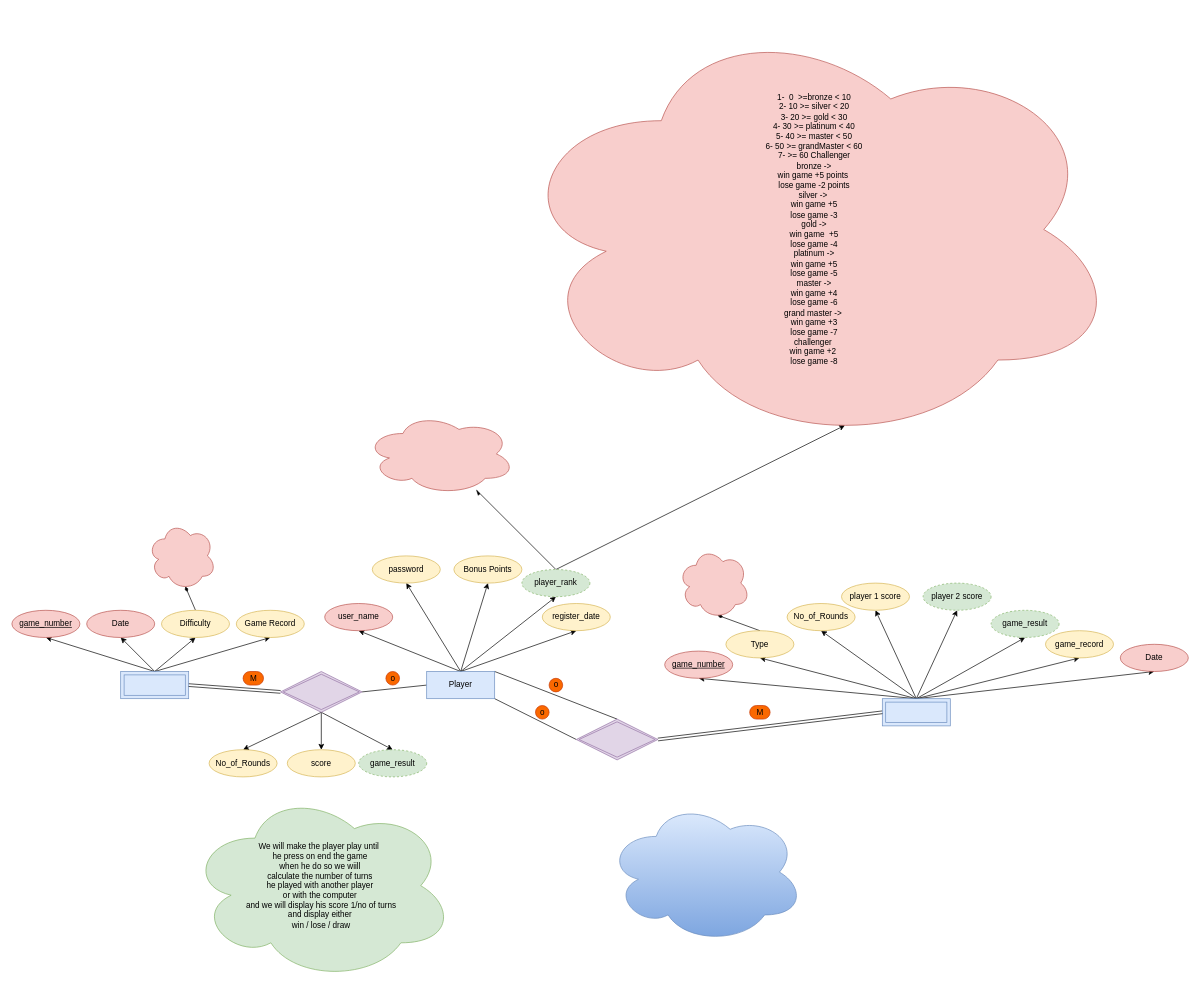
The diagram is 1200 pixels wide and 993 high, and some of its shapes have lost their labels. Here are the shapes that lost their labels. From the top down, the box of each, then its label:
(365, 412, 515, 495): Derived from Bonus Points
(147, 521, 216, 590): easy or medium or hard
(678, 547, 750, 619): Local Lan
(120, 671, 189, 699): Single Mode Game
(280, 671, 362, 712): play
(882, 698, 950, 726): Mutli Mode Game
(576, 718, 658, 760): play with
(606, 800, 804, 944): We can make view to display the history of the players
